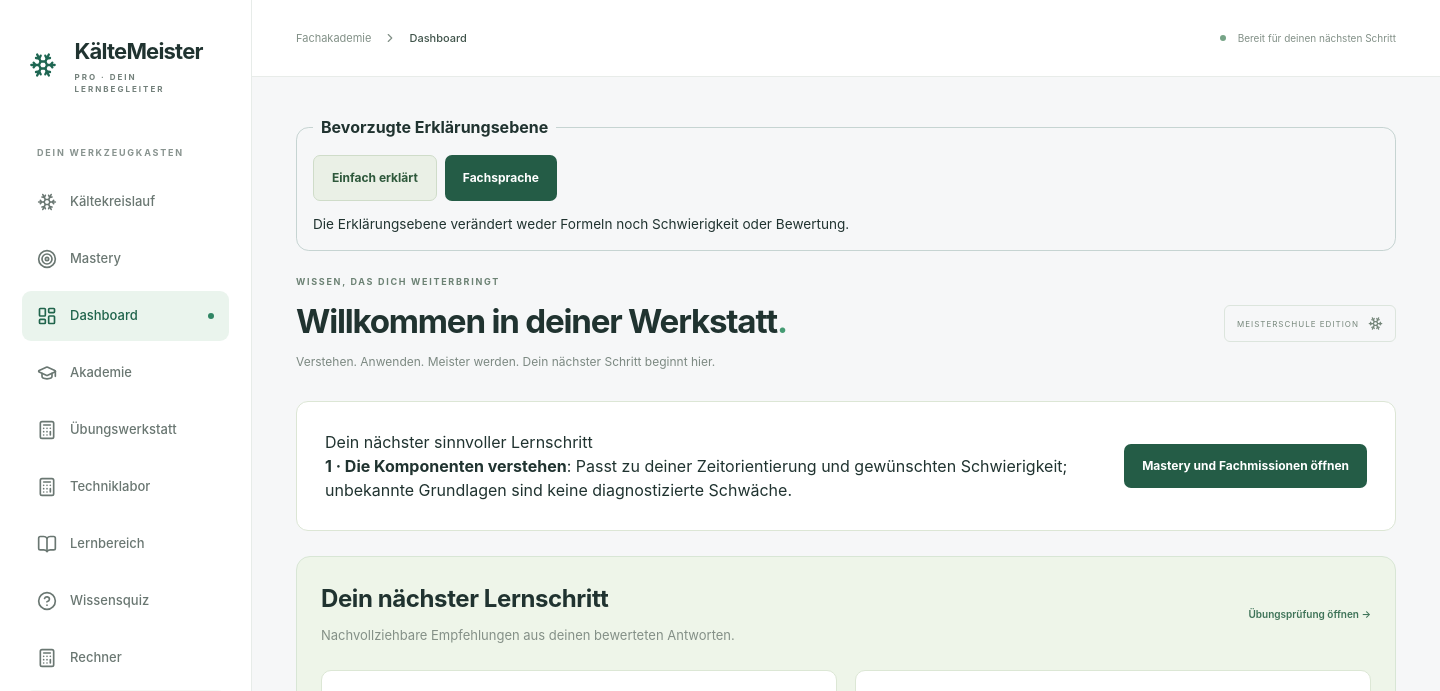
verknüpft den bestehenden Lernartikel mit dem zugehörigen Akademiemodul
Click the button "Lernbereich": (126, 544) x1=22 y1=518 x2=229 y2=568
(page scrolled)
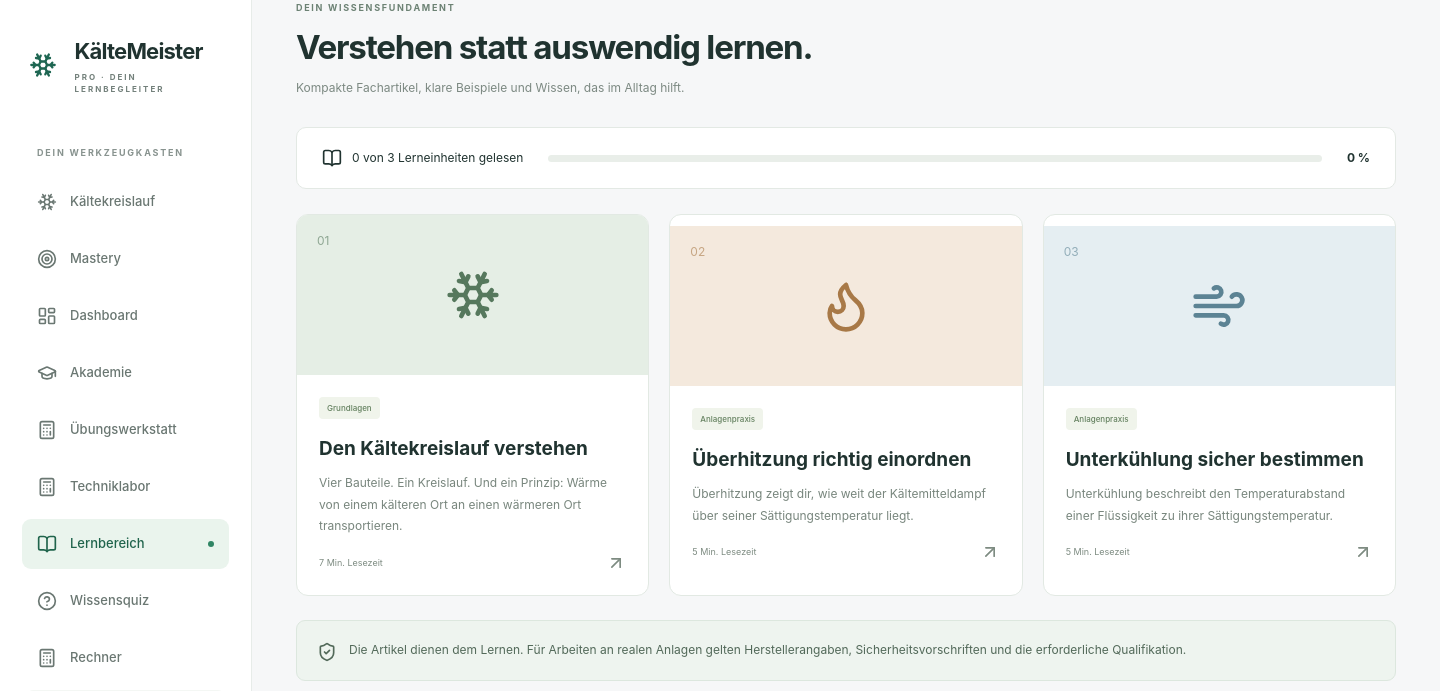
Click the button "Den Kältekreislauf verstehen": (473, 295) x1=296 y1=214 x2=649 y2=596
(page scrolled)
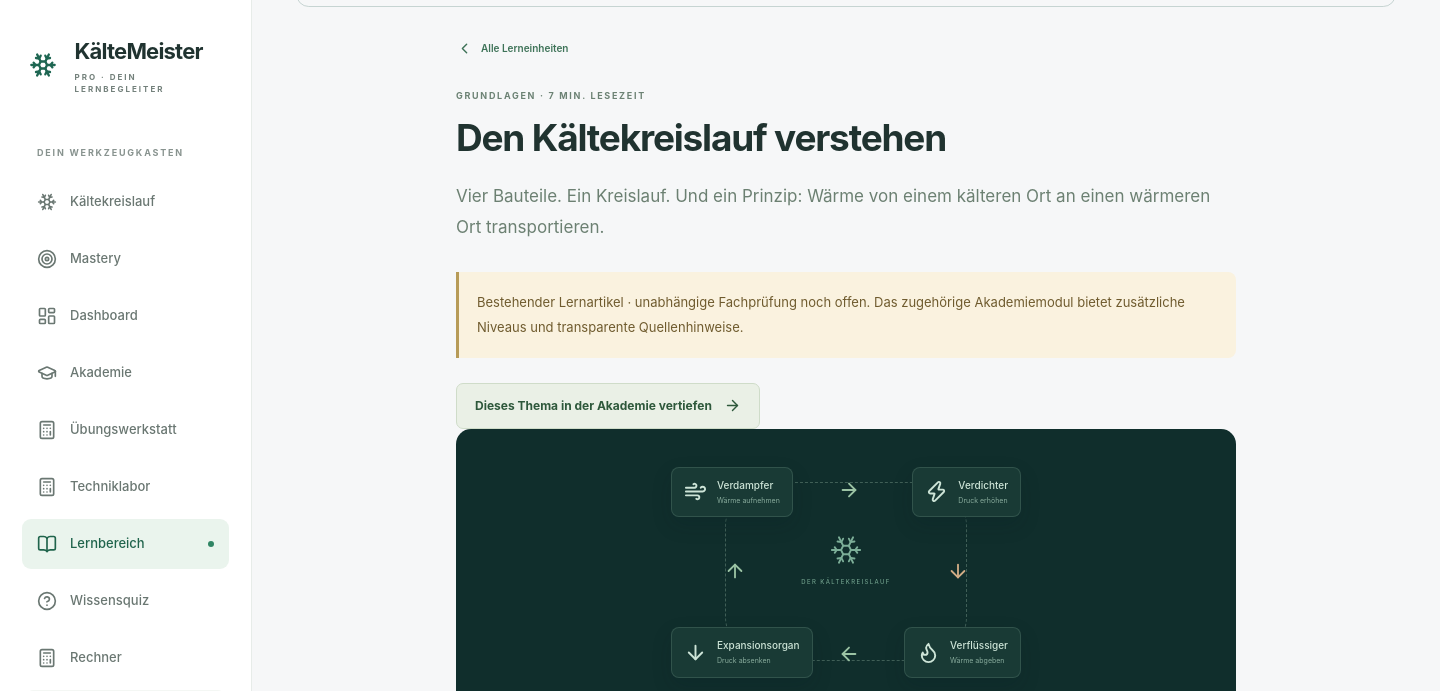
Click the button "Dieses Thema in der Akademie vertiefen": (608, 406) x1=456 y1=382 x2=760 y2=428
(page scrolled)
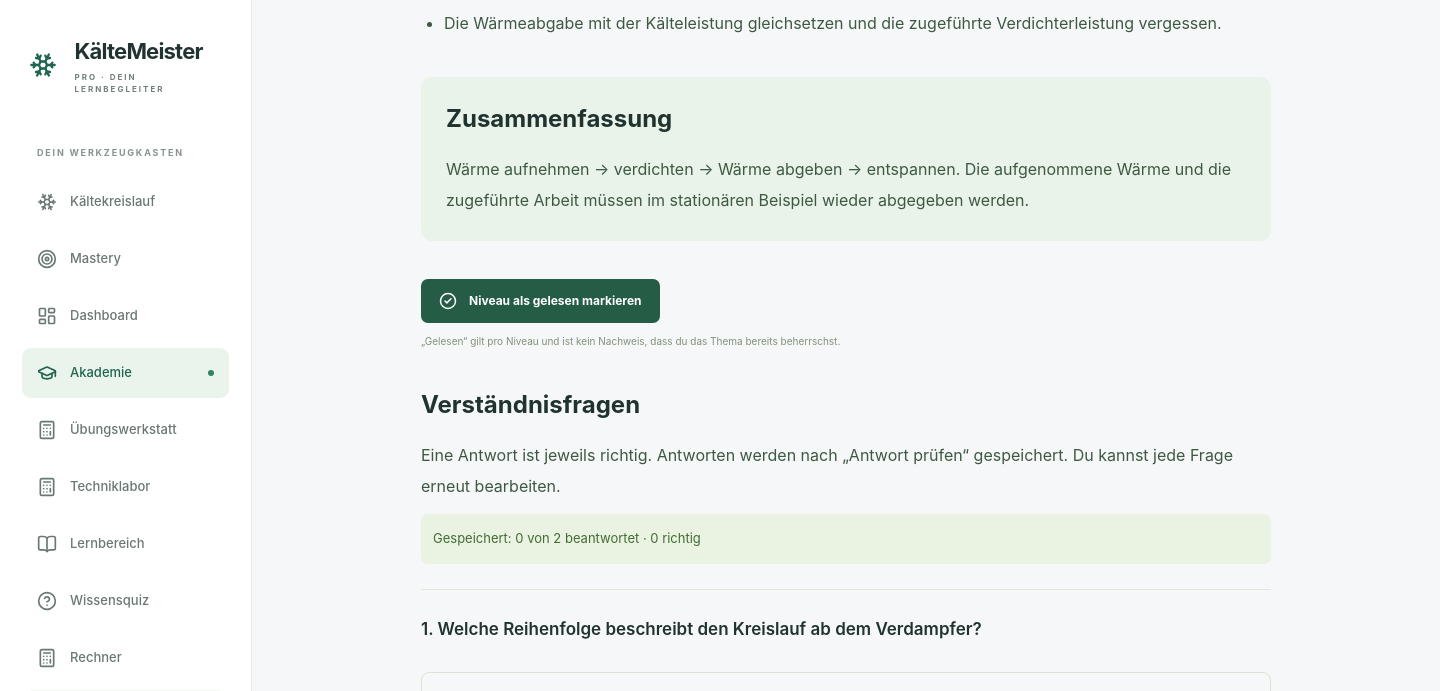
Now the heading "Verständnisfragen" is shown, box x1=421 y1=390 x2=640 y2=419
